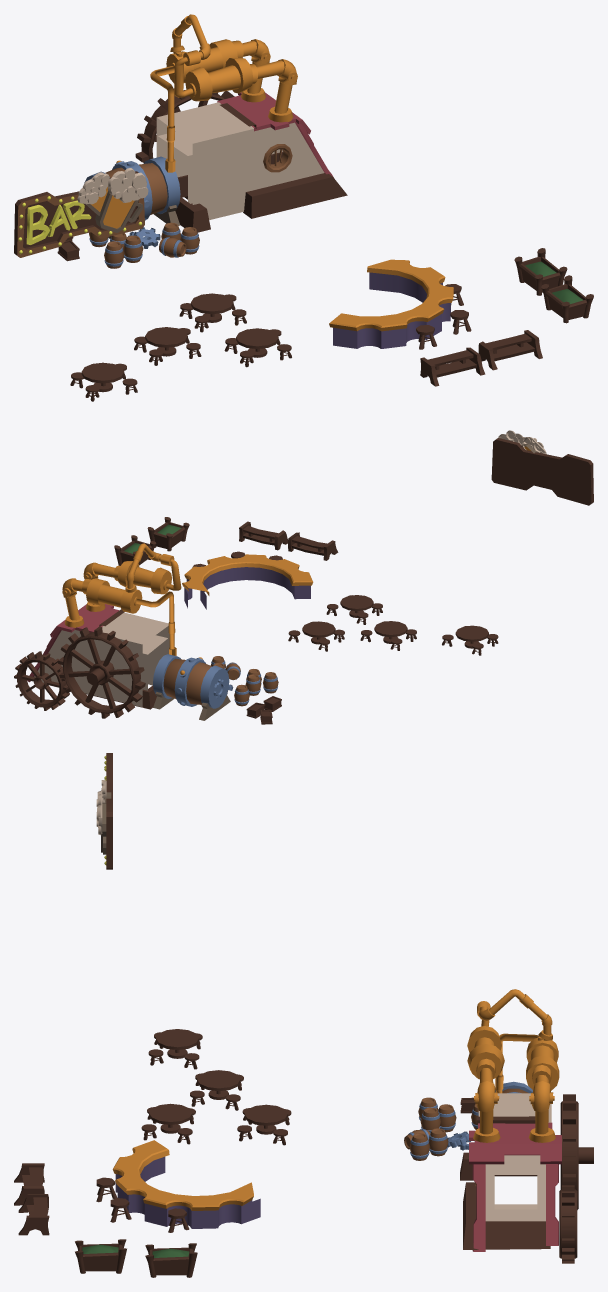
Rendered from BarFactory.fbx.
3 renders of one model, top to bottom at view 1: azimuth 30°, elevation 25°; view 2: azimuth 150°, elevation 25°; view 3: azimuth 270°, elevation 25°, orthographic. The views are drawn at different scales.
Parts seen in each view (by area): view 1: pCube398, Bar_Name, bar_countertop, tower_base, polySurface2991, polySurface2637, polySurface2640, polySurface2639, polySurface2638, bench1, bench2, polySurface2992 (+11 smaller); view 2: pCube398, Bar_Name, polySurface2965, bar_countertop, wheel1, polySurface2195, polySurface3016, polySurface3004, polySurface2991, polySurface2640, polySurface2637, polySurface2638 (+11 smaller); view 3: pCube398, bar_countertop, tower_base, polySurface2965, wheel1, polySurface2992, polySurface2991, Bar_Name, polySurface2640, polySurface2637, polySurface2639, polySurface2638 (+7 smaller).
Boxes of the visible parts, x1,y1,x2,y2 form: pCube398: [156, 92, 333, 219]; Bar_Name: [14, 168, 148, 257]; bar_countertop: [329, 259, 453, 348]; tower_base: [175, 152, 347, 232]; polySurface2991: [541, 275, 593, 323]; polySurface2637: [70, 362, 137, 401]; polySurface2640: [179, 293, 246, 332]; polySurface2639: [224, 328, 291, 367]; polySurface2638: [134, 327, 201, 365]; bench1: [420, 347, 485, 386]; bench2: [478, 330, 542, 370]; polySurface2992: [514, 248, 567, 295]; pCube398: [27, 604, 169, 707]; Bar_Name: [491, 430, 593, 505]; polySurface2965: [58, 626, 145, 718]; bar_countertop: [182, 554, 313, 609]; wheel1: [14, 651, 69, 710]; polySurface2195: [86, 578, 142, 613]; polySurface3016: [163, 658, 211, 704]; polySurface3004: [200, 665, 229, 708]; polySurface2991: [147, 517, 189, 551]; polySurface2640: [288, 621, 344, 651]; polySurface2637: [442, 625, 498, 655]; polySurface2638: [360, 621, 416, 650]; pCube398: [469, 1093, 561, 1251]; bar_countertop: [112, 1140, 260, 1228]; tower_base: [460, 1152, 550, 1249]; polySurface2965: [560, 1094, 578, 1209]; wheel1: [559, 1185, 577, 1263]; polySurface2992: [145, 1243, 197, 1277]; polySurface2991: [75, 1239, 126, 1273]; Bar_Name: [96, 753, 112, 869]; polySurface2640: [237, 1104, 291, 1145]; polySurface2637: [148, 1029, 202, 1069]; polySurface2639: [141, 1103, 195, 1144]; polySurface2638: [190, 1070, 243, 1110].
Size of the model in its own units: 3700 by 1719 by 3203.
